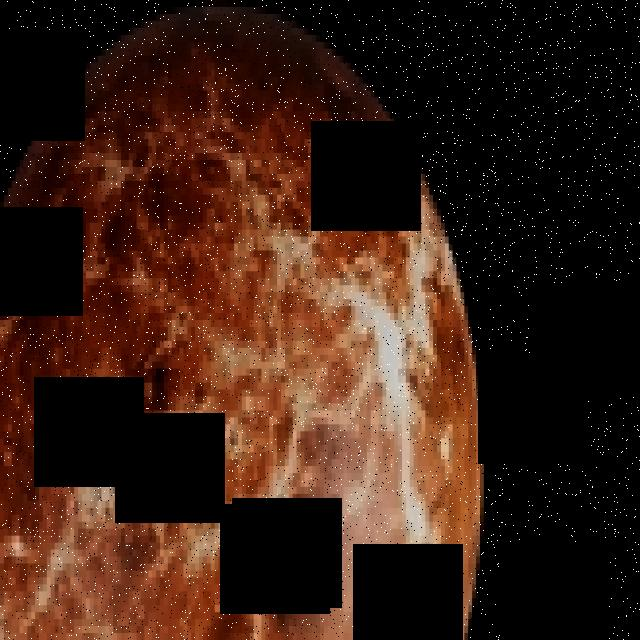Venus: (0, 7, 488, 640)
